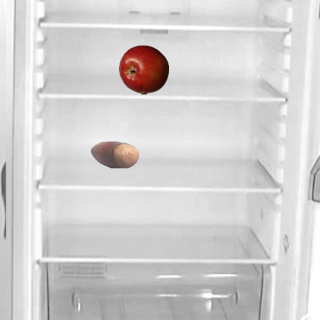Apple Braeburn: (118, 44, 168, 94)
Hazelnut: (89, 129, 139, 179)
